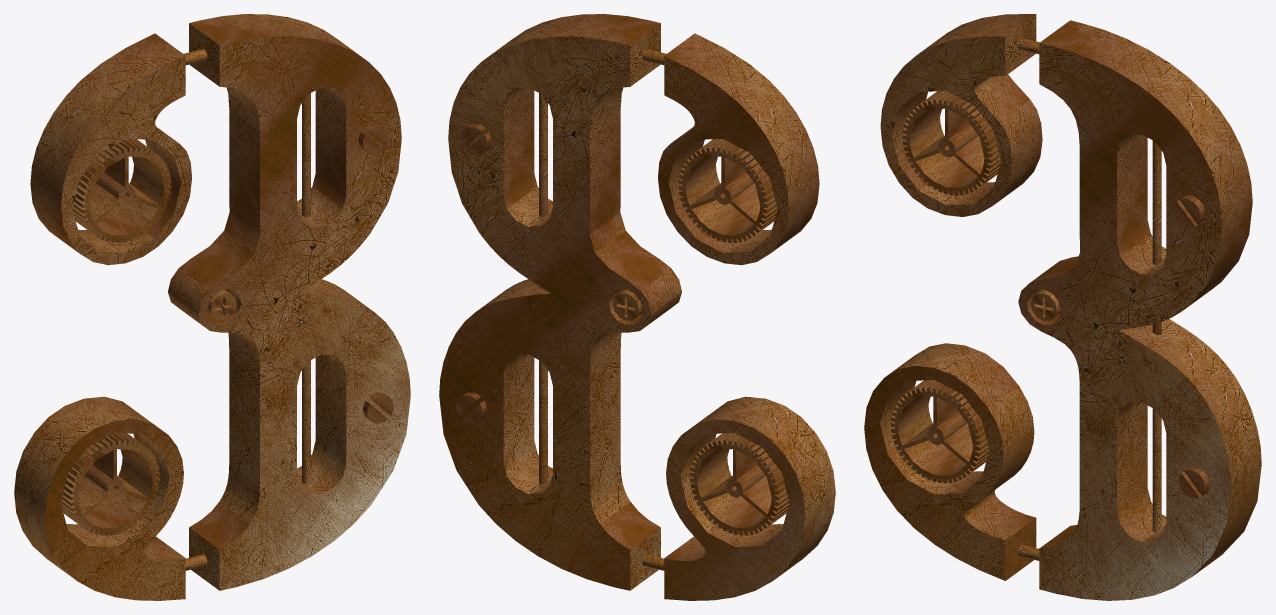
3 renders of one model, left to right at view 1: azimuth 30°, elevation 25°; view 2: azimuth 150°, elevation 25°; view 3: azimuth 330°, elevation 25°, orthographic.
Parts seen in each view (by area): view 1: 034, Cogwheel_394, Cogwheel_402, Tube_628, Screw_753, Screw_714, Screw_751; view 2: 034, Cogwheel_394, Cogwheel_402, Tube_628, Screw_753, Screw_714, Screw_751; view 3: 034, Cogwheel_394, Cogwheel_402, Tube_628, Screw_751, Screw_714, Screw_753.
Part boxes in pixels (bbox=[...]): 034: bbox=[14, 14, 410, 600]; Cogwheel_394: bbox=[72, 139, 171, 242]; Cogwheel_402: bbox=[60, 433, 159, 535]; Tube_628: bbox=[302, 93, 310, 484]; Screw_753: bbox=[207, 289, 236, 320]; Screw_714: bbox=[363, 392, 393, 423]; Screw_751: bbox=[358, 124, 389, 154]; 034: bbox=[439, 14, 835, 600]; Cogwheel_394: bbox=[678, 139, 777, 242]; Cogwheel_402: bbox=[690, 433, 789, 535]; Tube_628: bbox=[539, 93, 547, 484]; Screw_753: bbox=[613, 289, 642, 320]; Screw_714: bbox=[456, 392, 486, 423]; Screw_751: bbox=[460, 124, 491, 154]; 034: bbox=[864, 14, 1261, 600]; Cogwheel_394: bbox=[902, 91, 1000, 195]; Cogwheel_402: bbox=[891, 380, 989, 483]; Tube_628: bbox=[1152, 140, 1161, 532]; Screw_751: bbox=[1174, 195, 1205, 227]; Screw_714: bbox=[1178, 466, 1209, 498]; Screw_753: bbox=[1030, 289, 1060, 320].
Bounding box in the file's own units: 68.85 × 98.09 × 12.89.
Materials: 1 (1 with a texture image).
